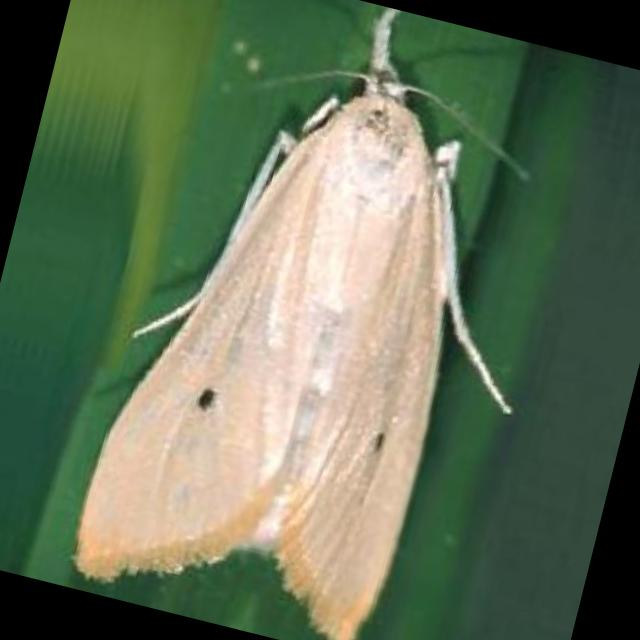stem-borer: (57, 0, 604, 640)
